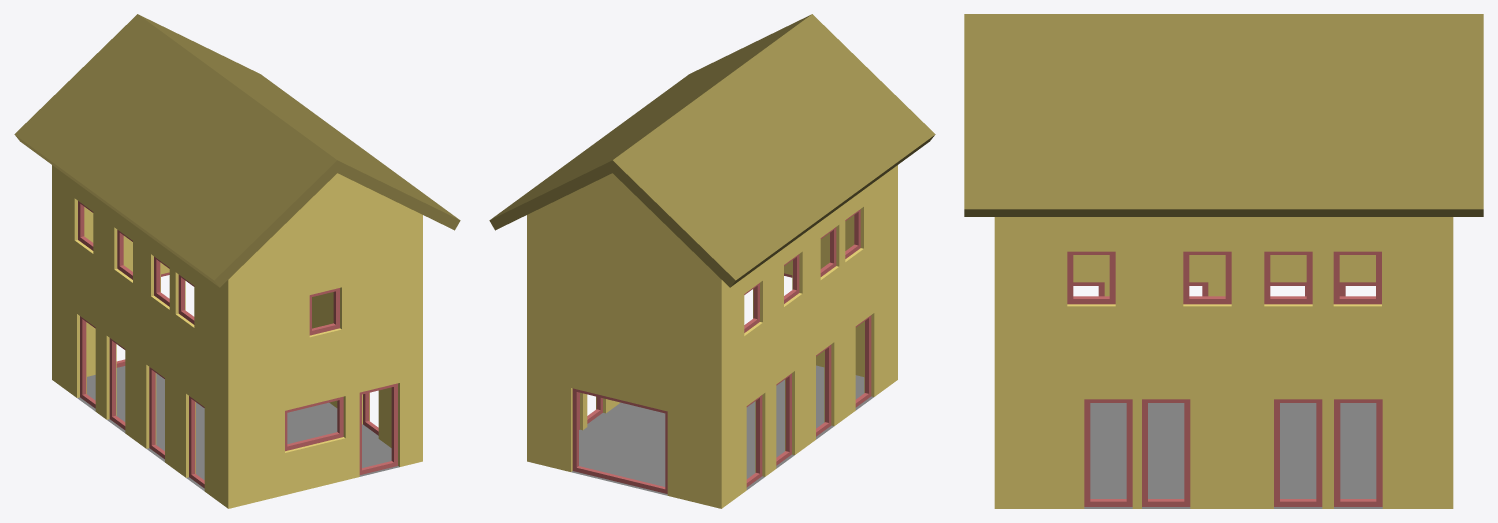
Rendered from result.glb.
The picture shows the model from 3 angles, left to right: view 1: azimuth 30°, elevation 25°; view 2: azimuth 150°, elevation 25°; view 3: azimuth 270°, elevation 25°; orthographic projection. The views are drawn at different scales.
Visible parts, largest first — view 1: 842e822f-3562-4bed-8b14-b9c5375416ad__undefined, ae06f46a-048e-49f6-a64f-aff434e697de__undefined (×2), 5d7031f5-2263-4422-bf1b-95f813372ad3__Plane_20, 6eca6d1c-c3eb-4896-aeda-105ee322d567__Box, 33447169-ed77-4d33-9d97-15629963b6cb__Box_3, 7eafcdce-8908-4a40-ac62-0dc24d9fa4d5__Box_18, 9b8eeb28-f1c9-48ab-b550-00fbaced28f0__Box_21, 5c75e395-8c92-48a7-997c-47343c7e4ef9__Box_12, c12f7a90-064b-4d60-9671-d27f865c17d4__Box_15, 09025786-23c7-42de-975b-28d5103175ff__Box_6; view 2: 842e822f-3562-4bed-8b14-b9c5375416ad__undefined, ae06f46a-048e-49f6-a64f-aff434e697de__undefined (×2), 5d7031f5-2263-4422-bf1b-95f813372ad3__Plane_20, 24dc2dc1-c1bc-4ace-8e9d-576fdf3d7d5b__Box_9, 5c75e395-8c92-48a7-997c-47343c7e4ef9__Box_12, 9b8eeb28-f1c9-48ab-b550-00fbaced28f0__Box_21, c12f7a90-064b-4d60-9671-d27f865c17d4__Box_15, 7eafcdce-8908-4a40-ac62-0dc24d9fa4d5__Box_18; view 3: 842e822f-3562-4bed-8b14-b9c5375416ad__undefined, ae06f46a-048e-49f6-a64f-aff434e697de__undefined, 5d7031f5-2263-4422-bf1b-95f813372ad3__Plane_20, 92ea4884-1246-477d-9ec7-2d7e221ce379__Box_36, ad61f244-37b9-4cd1-9218-5d3de347fa71__Box_45, 11ea553d-7287-47e9-8404-4abb9b721340__Box_39, 4ad47269-30f2-44b1-9464-c9ae434ef1c0__Box_42, 718a44ba-150a-4deb-85b8-35ac7285e609__Box_48, 5d162ea9-fdeb-42cf-b6e1-b8afcd261508__Box_51, c4d04444-0e3b-4a8f-abc7-94dd679022b1__Box_54, f148b137-1ea6-4692-841a-b75caf313210__Box_57.
Part boxes in pixels (x1,y1,x2,y2): 842e822f-3562-4bed-8b14-b9c5375416ad__undefined: [52, 165, 422, 508]; ae06f46a-048e-49f6-a64f-aff434e697de__undefined (×2): [14, 14, 460, 287]; 5d7031f5-2263-4422-bf1b-95f813372ad3__Plane_20: [77, 366, 399, 491]; 6eca6d1c-c3eb-4896-aeda-105ee322d567__Box: [359, 383, 397, 474]; 33447169-ed77-4d33-9d97-15629963b6cb__Box_3: [285, 396, 343, 451]; 7eafcdce-8908-4a40-ac62-0dc24d9fa4d5__Box_18: [109, 338, 125, 429]; 9b8eeb28-f1c9-48ab-b550-00fbaced28f0__Box_21: [80, 316, 95, 408]; 5c75e395-8c92-48a7-997c-47343c7e4ef9__Box_12: [189, 396, 204, 488]; c12f7a90-064b-4d60-9671-d27f865c17d4__Box_15: [149, 367, 164, 459]; 09025786-23c7-42de-975b-28d5103175ff__Box_6: [309, 288, 339, 335]; 842e822f-3562-4bed-8b14-b9c5375416ad__undefined: [527, 165, 897, 508]; ae06f46a-048e-49f6-a64f-aff434e697de__undefined (×2): [489, 14, 935, 287]; 5d7031f5-2263-4422-bf1b-95f813372ad3__Plane_20: [571, 365, 873, 495]; 24dc2dc1-c1bc-4ace-8e9d-576fdf3d7d5b__Box_9: [572, 388, 667, 493]; 5c75e395-8c92-48a7-997c-47343c7e4ef9__Box_12: [855, 315, 871, 407]; 9b8eeb28-f1c9-48ab-b550-00fbaced28f0__Box_21: [746, 395, 762, 487]; c12f7a90-064b-4d60-9671-d27f865c17d4__Box_15: [816, 344, 831, 436]; 7eafcdce-8908-4a40-ac62-0dc24d9fa4d5__Box_18: [776, 373, 791, 465]; 842e822f-3562-4bed-8b14-b9c5375416ad__undefined: [994, 217, 1453, 508]; ae06f46a-048e-49f6-a64f-aff434e697de__undefined: [964, 14, 1483, 216]; 5d7031f5-2263-4422-bf1b-95f813372ad3__Plane_20: [1084, 403, 1382, 508]; 92ea4884-1246-477d-9ec7-2d7e221ce379__Box_36: [1084, 399, 1132, 506]; ad61f244-37b9-4cd1-9218-5d3de347fa71__Box_45: [1334, 399, 1382, 506]; 11ea553d-7287-47e9-8404-4abb9b721340__Box_39: [1142, 399, 1190, 506]; 4ad47269-30f2-44b1-9464-c9ae434ef1c0__Box_42: [1274, 399, 1322, 506]; 718a44ba-150a-4deb-85b8-35ac7285e609__Box_48: [1067, 251, 1115, 304]; 5d162ea9-fdeb-42cf-b6e1-b8afcd261508__Box_51: [1183, 251, 1231, 304]; c4d04444-0e3b-4a8f-abc7-94dd679022b1__Box_54: [1264, 251, 1312, 304]; f148b137-1ea6-4692-841a-b75caf313210__Box_57: [1333, 251, 1381, 304].
Size of the model in its own units: 612 by 791 by 859.
